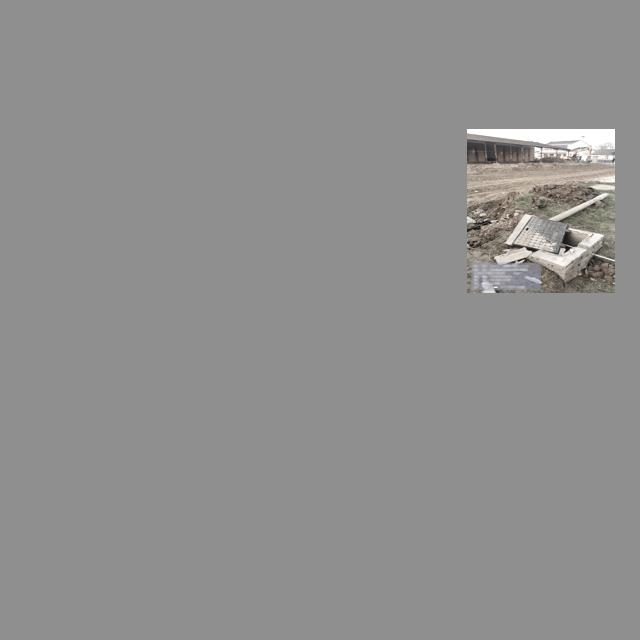circle: (497, 213, 597, 263)
